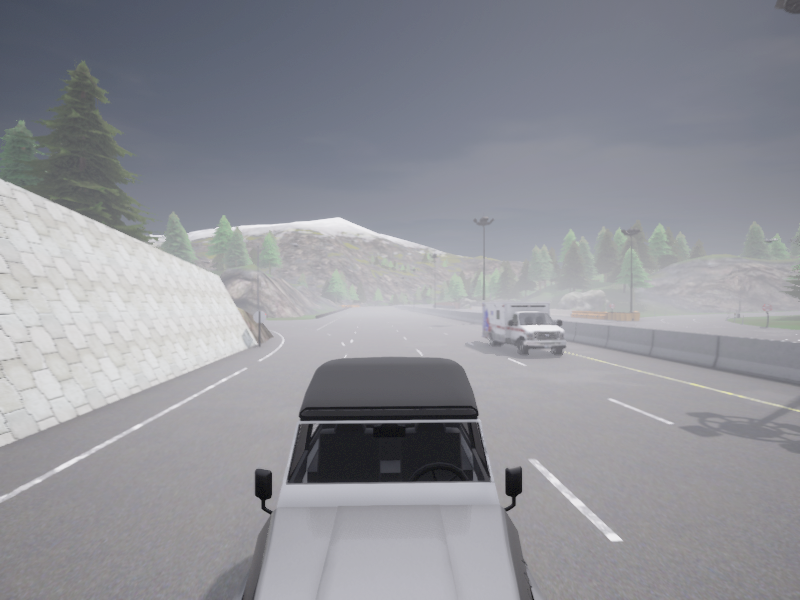vehicle: (233, 357, 544, 599), (481, 302, 565, 355)
